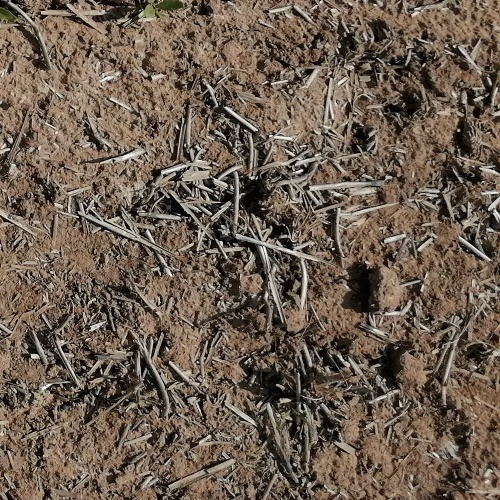beet: (142, 0, 177, 22)
